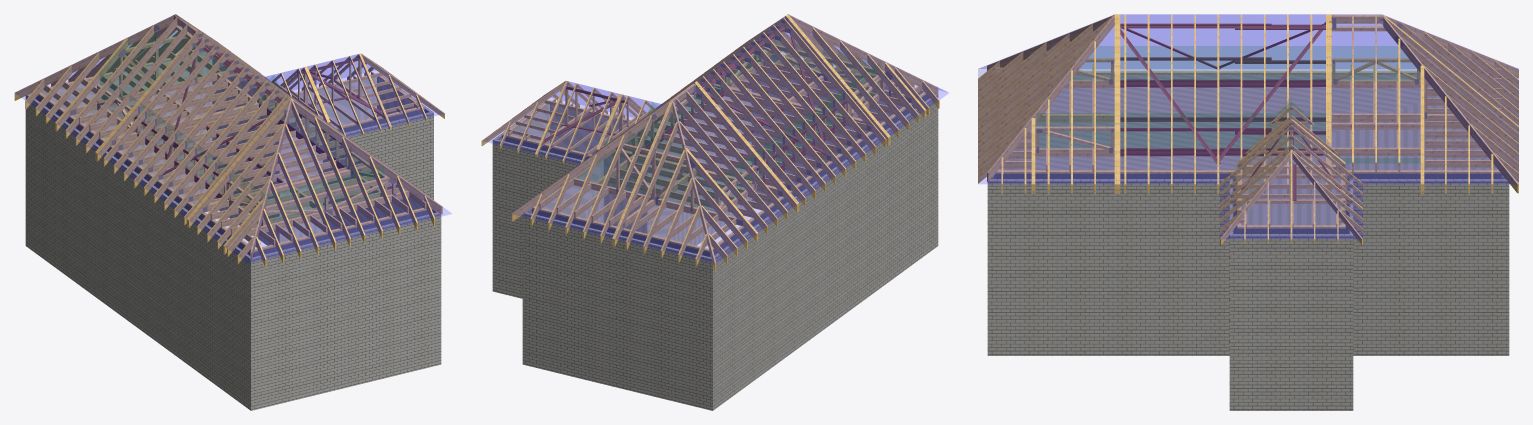
3 renders of one model, left to right at view 1: azimuth 30°, elevation 25°; view 2: azimuth 150°, elevation 25°; view 3: azimuth 270°, elevation 25°, orthographic. The views are drawn at different scales.
Parts seen in each view (by area): view 1: skfb_offset; view 2: skfb_offset; view 3: skfb_offset.
Part boxes in pixels (x1,y1,x2,y2): skfb_offset: (14, 14, 451, 410); skfb_offset: (481, 14, 947, 410); skfb_offset: (978, 14, 1518, 410).
Size of the model in its own units: 10417 by 8207 by 13967.
Materials: 11 (9 with a texture image).
